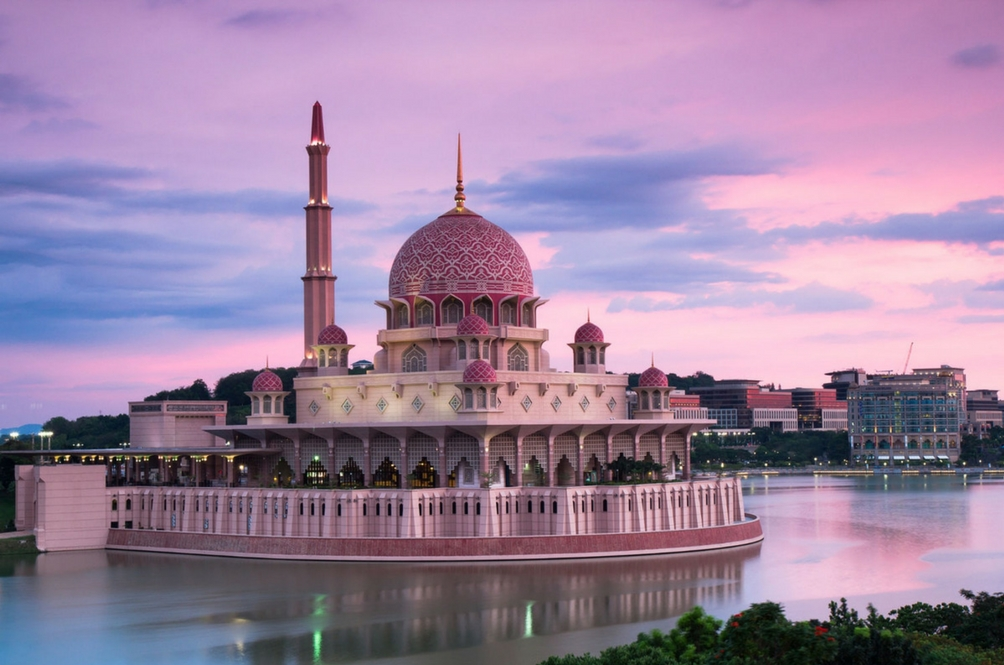Mosque: (126, 112, 739, 548)
